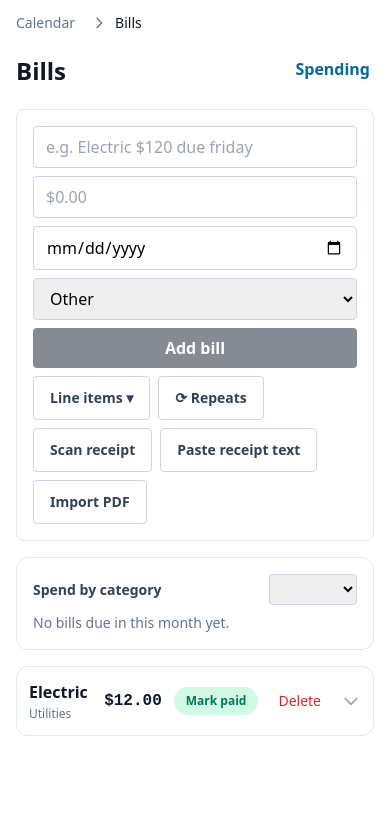
Test case: line items editor (#031) › shows the reconcile hint with a one-tap tax add when items < total
The image size is (390, 833).
Click the button named "Show details for Electric" at x=351, y=701, box [341,679,361,723]
(page scrolled)
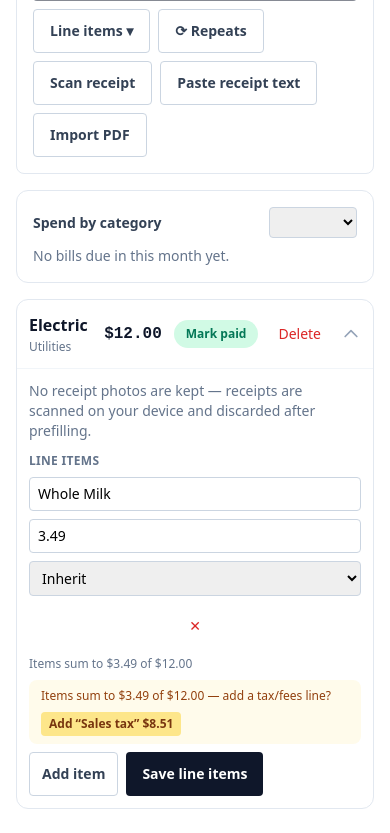
Expected: the text "Items sum to $3.49 of $12.00 — add a tax/fees line?" is shown, [41,688,331,704]
Click the button "Add “Sales tax” $8.51" at x=111, y=724, box [41,712,181,736]
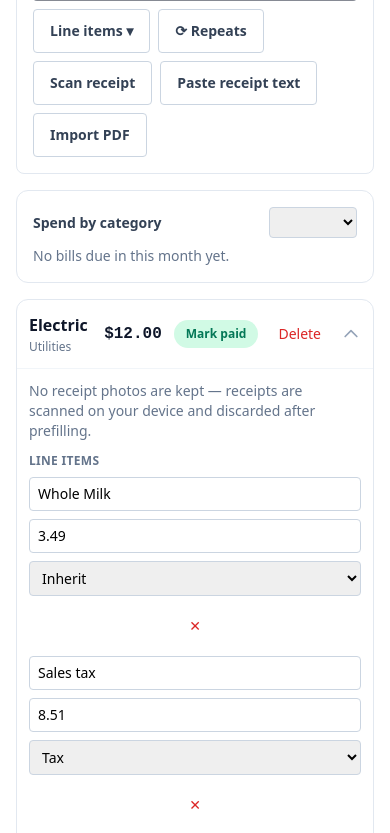
Expected: the field showing "Sales tax" is shown, [29,656,361,690]
Expected: the field showing "8.51" is shown, [29,698,361,732]
